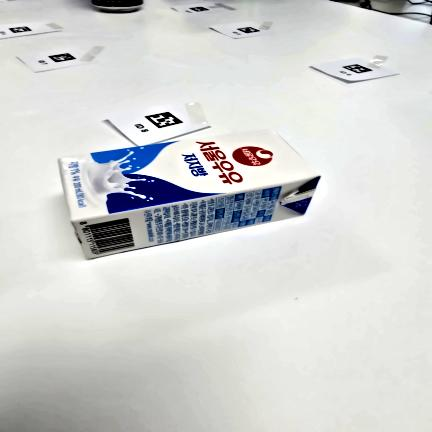milk_blue: (59, 126, 322, 261)
